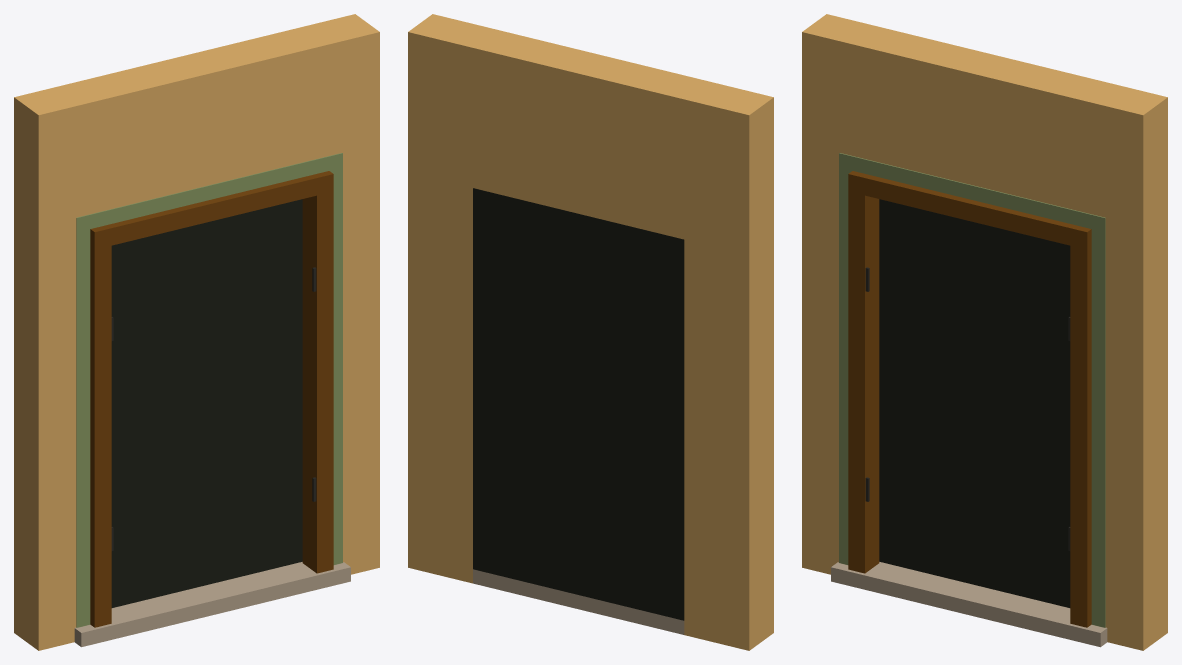
The model's file is SM_Wall_PhDoorBay_01.fbx.
3 renders of one model, left to right at view 1: azimuth 30°, elevation 25°; view 2: azimuth 150°, elevation 25°; view 3: azimuth 330°, elevation 25°, orthographic.
Visible parts, largest first — view 1: SM_Wall_PhDoorBay_01; view 2: SM_Wall_PhDoorBay_01; view 3: SM_Wall_PhDoorBay_01.
Boxes of the visible parts, box(x1,y1,x2,y2) form: SM_Wall_PhDoorBay_01: box(14, 14, 379, 650); SM_Wall_PhDoorBay_01: box(408, 14, 773, 650); SM_Wall_PhDoorBay_01: box(802, 14, 1167, 650).
Size of the model in its own units: 2 by 3 by 0.32.
1 material, 1 textured.
